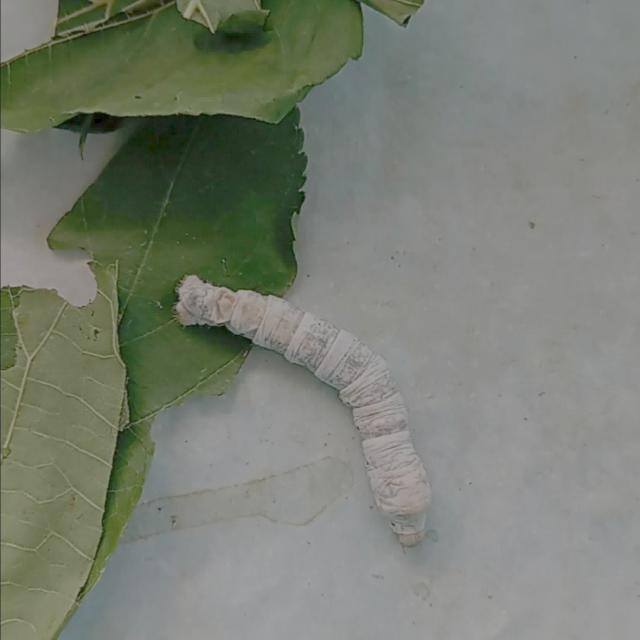Grasserie: (140, 234, 470, 610)
